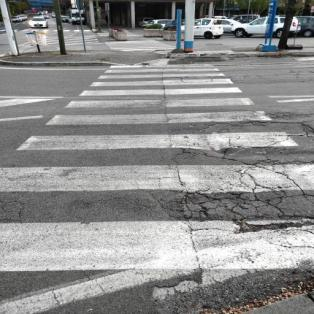Paso de Cebra: (10, 109, 305, 158), (75, 77, 246, 98)
